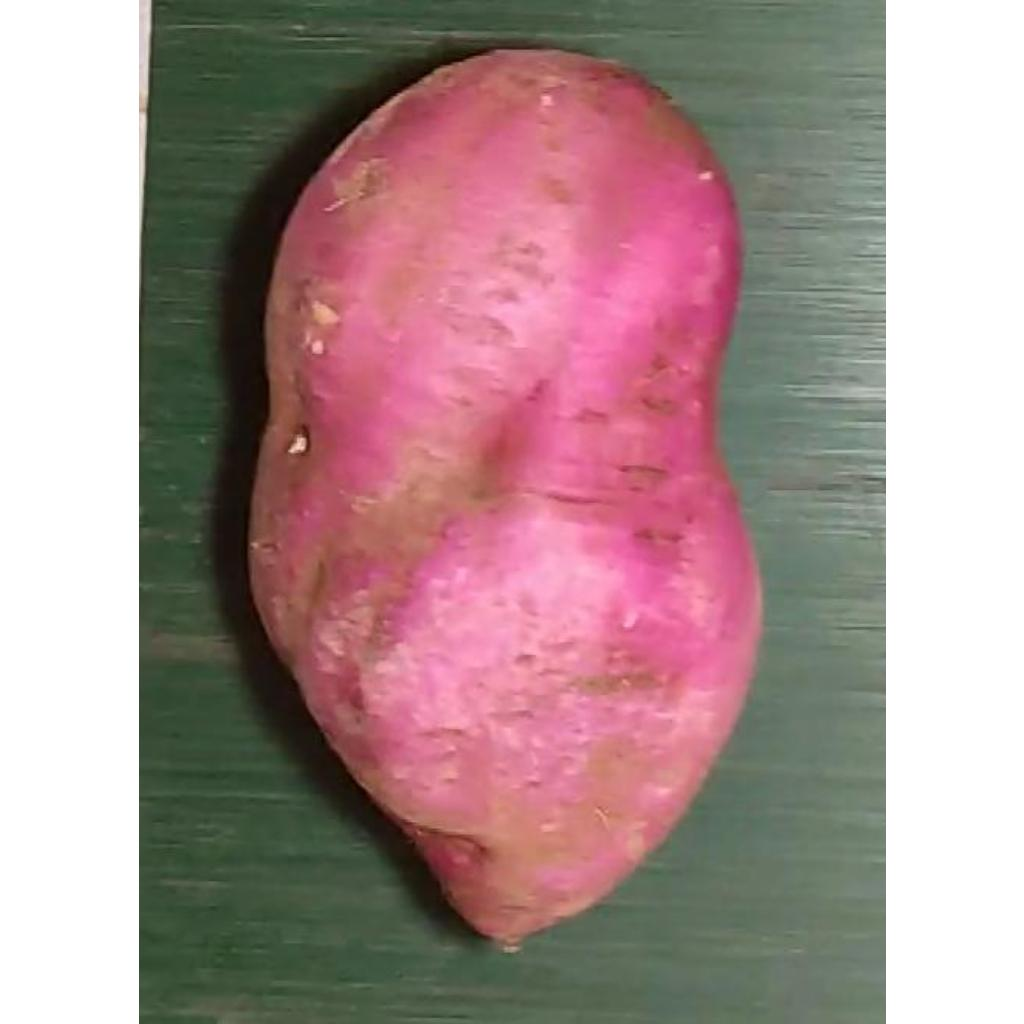Sweet Potato: (247, 47, 763, 945)
